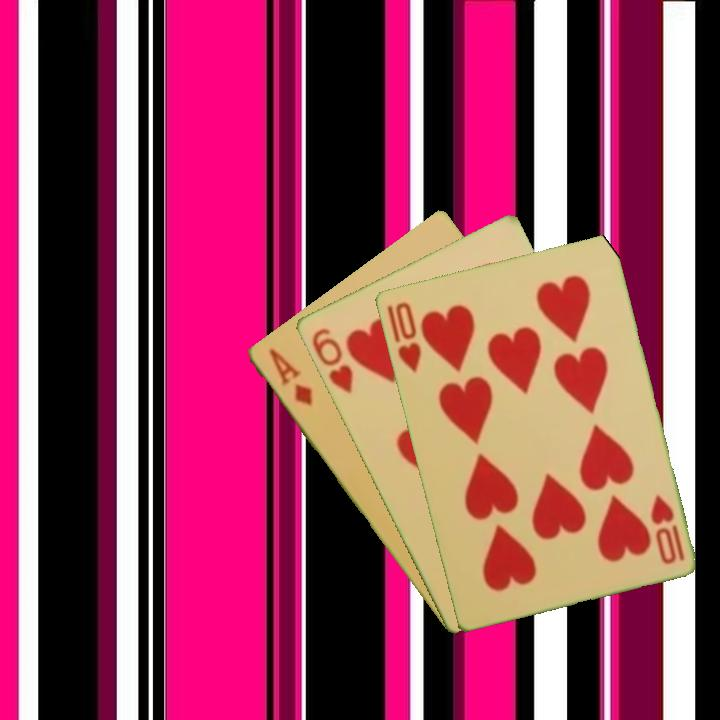10h: (646, 491, 687, 567), (391, 298, 424, 376)
6h: (307, 324, 355, 396)
Ad: (264, 344, 315, 410)
